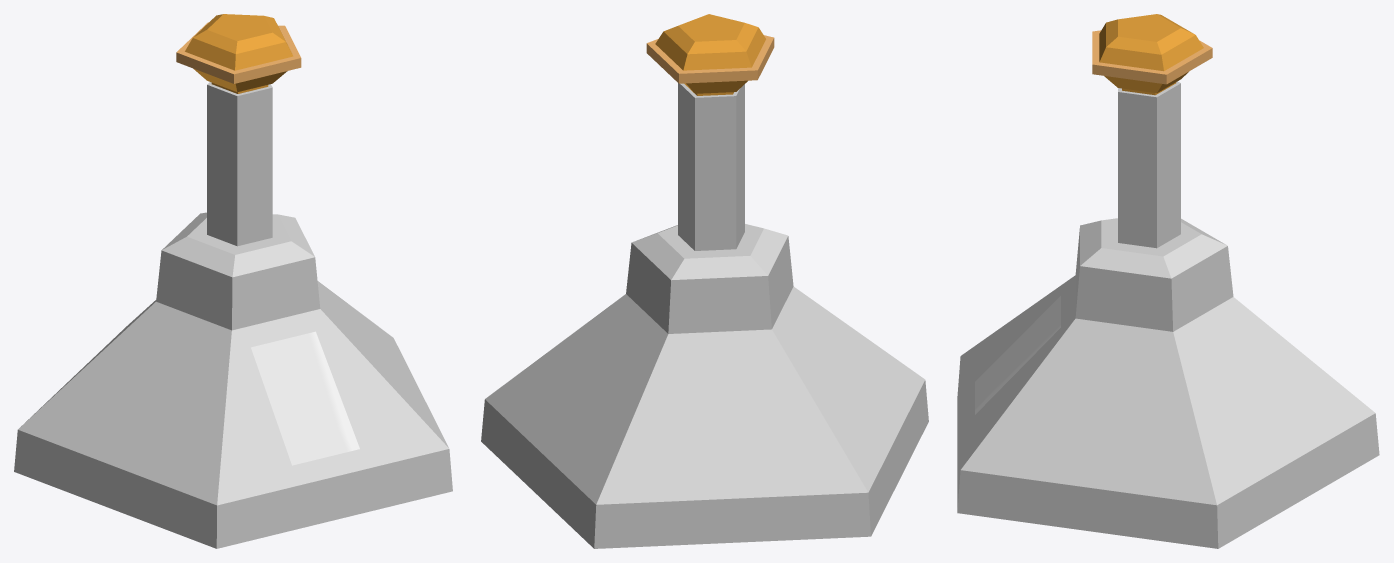
The model's file is fancy_glass_bottle_04.obj.
3 renders of one model, left to right at view 1: azimuth 30°, elevation 25°; view 2: azimuth 150°, elevation 25°; view 3: azimuth 270°, elevation 25°, orthographic. The views are drawn at different scales.
Parts seen in each view (by area): view 1: fancy_glass_bottle_04_m_Glass, fancy_glass_bottle_04_mi_CustomPropMain; view 2: fancy_glass_bottle_04_m_Glass, fancy_glass_bottle_04_mi_CustomPropMain; view 3: fancy_glass_bottle_04_m_Glass, fancy_glass_bottle_04_mi_CustomPropMain.
Part boxes in pixels (x1,y1,x2,y2): fancy_glass_bottle_04_m_Glass: [14, 82, 452, 548]; fancy_glass_bottle_04_mi_CustomPropMain: [176, 14, 359, 465]; fancy_glass_bottle_04_m_Glass: [481, 83, 928, 548]; fancy_glass_bottle_04_mi_CustomPropMain: [646, 14, 774, 95]; fancy_glass_bottle_04_m_Glass: [957, 81, 1379, 548]; fancy_glass_bottle_04_mi_CustomPropMain: [975, 14, 1212, 414].
Bounding box in the file's own units: 0.4375 × 0.4645 × 0.4161.
2 materials, 1 textured.
